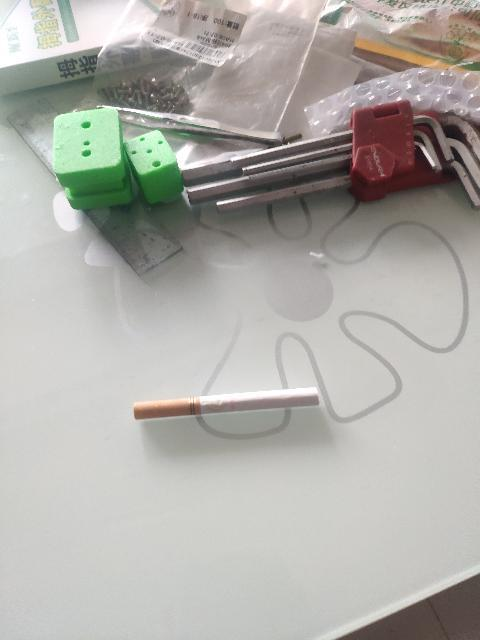Smoking: (132, 388, 320, 420)
